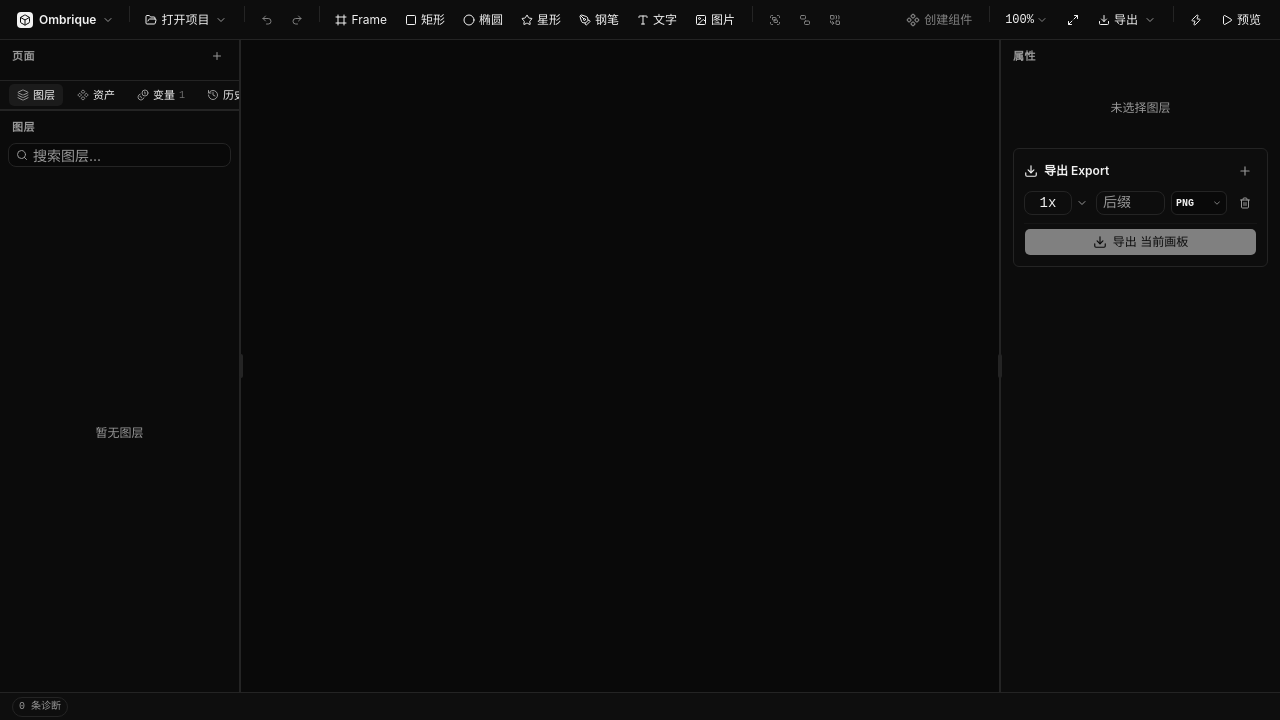
Shell › switches between Layers and Tokens tabs in the left panel
Click the tab with aria-label "查看设计变量": (161, 95) [128,83,194,107]
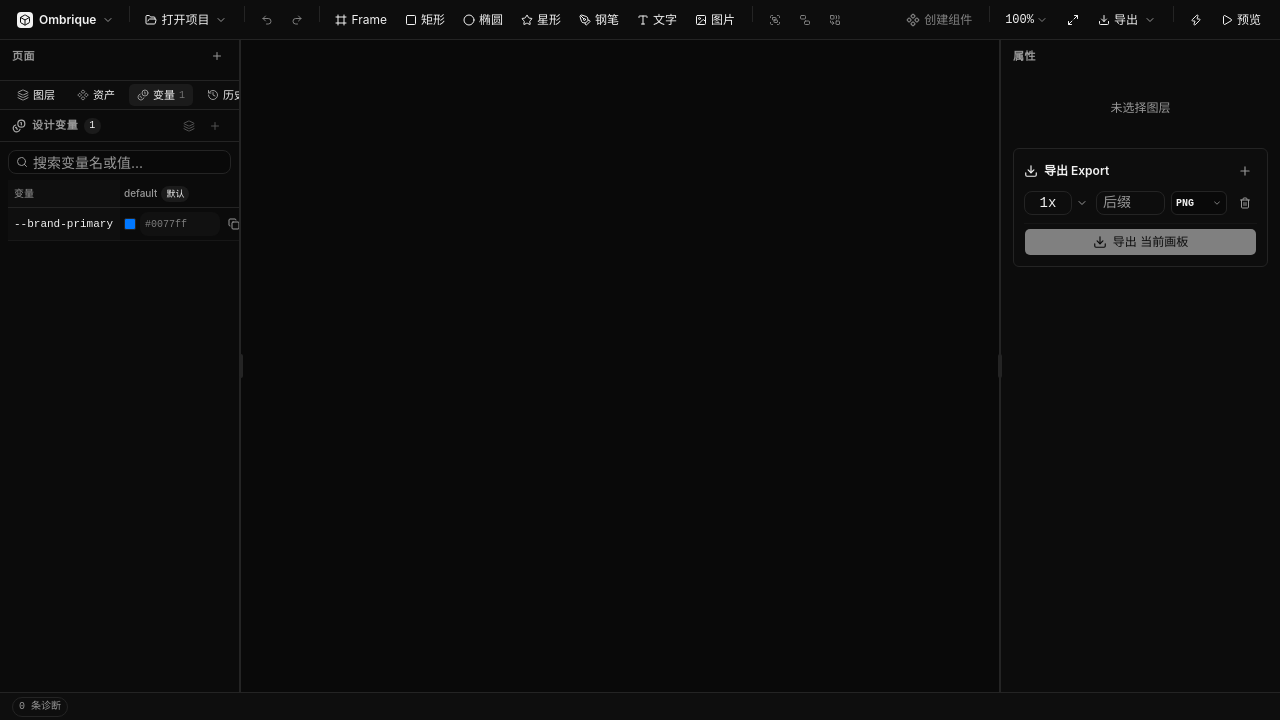
Now the text "--brand-primary" is shown, box [14,217,114,231]
Click the tab with aria-label "查看图层列表": (36, 95) [8,83,64,107]
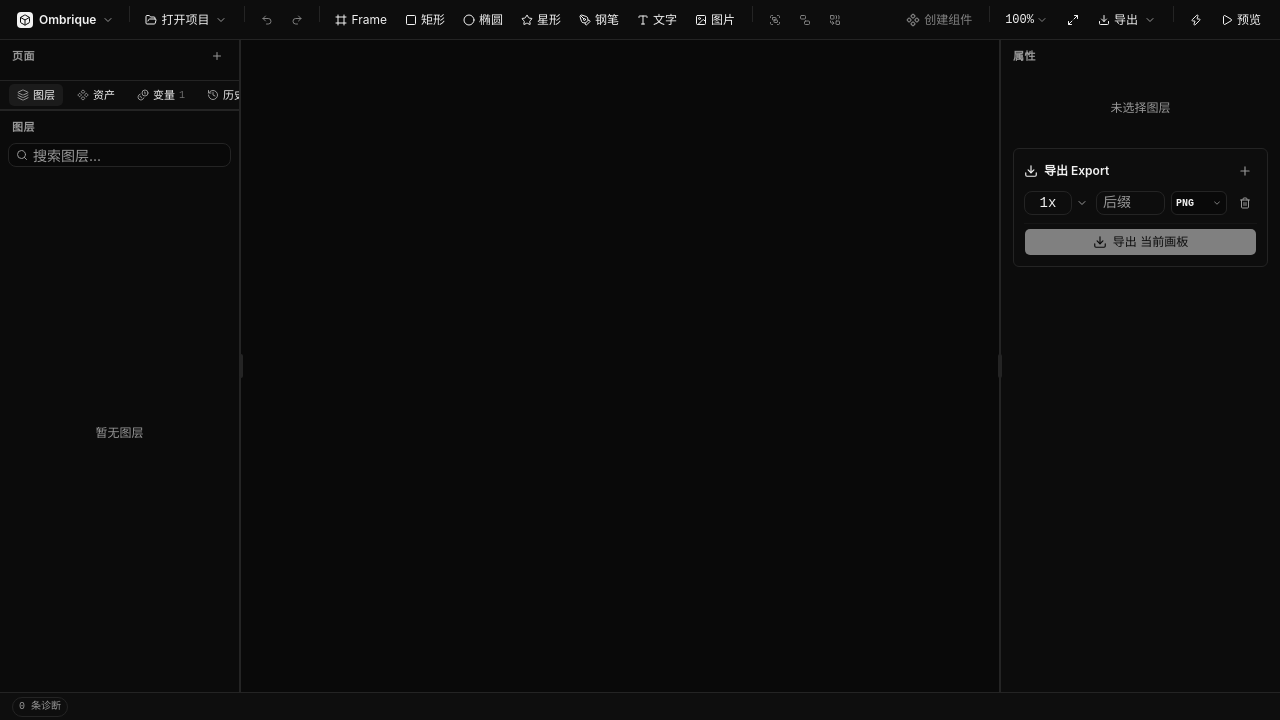
Now the element named "图层树" is shown, box [0,110,239,692]
